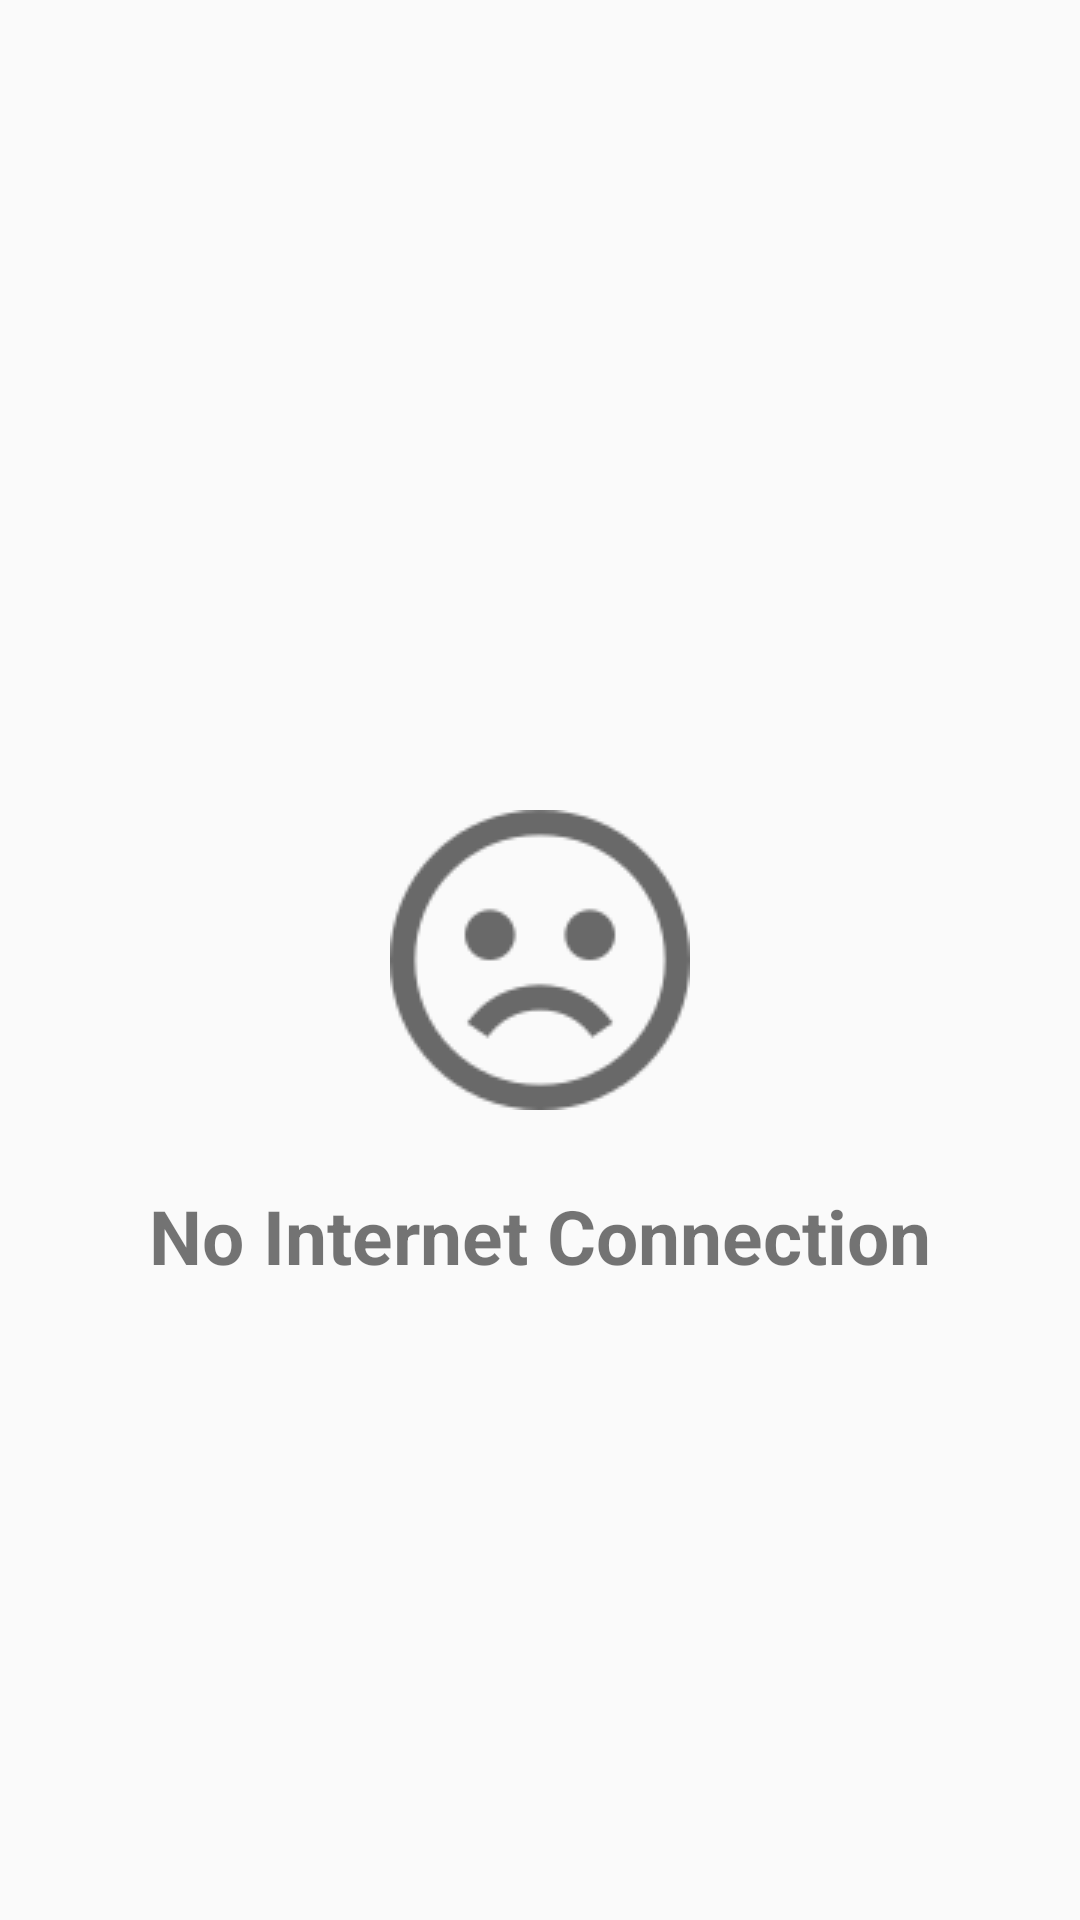

Named icons in this screenshot (1080*1920) and their bounding boxes, (x1, y1, x2, y2):
sad: (390, 810, 690, 1110)
